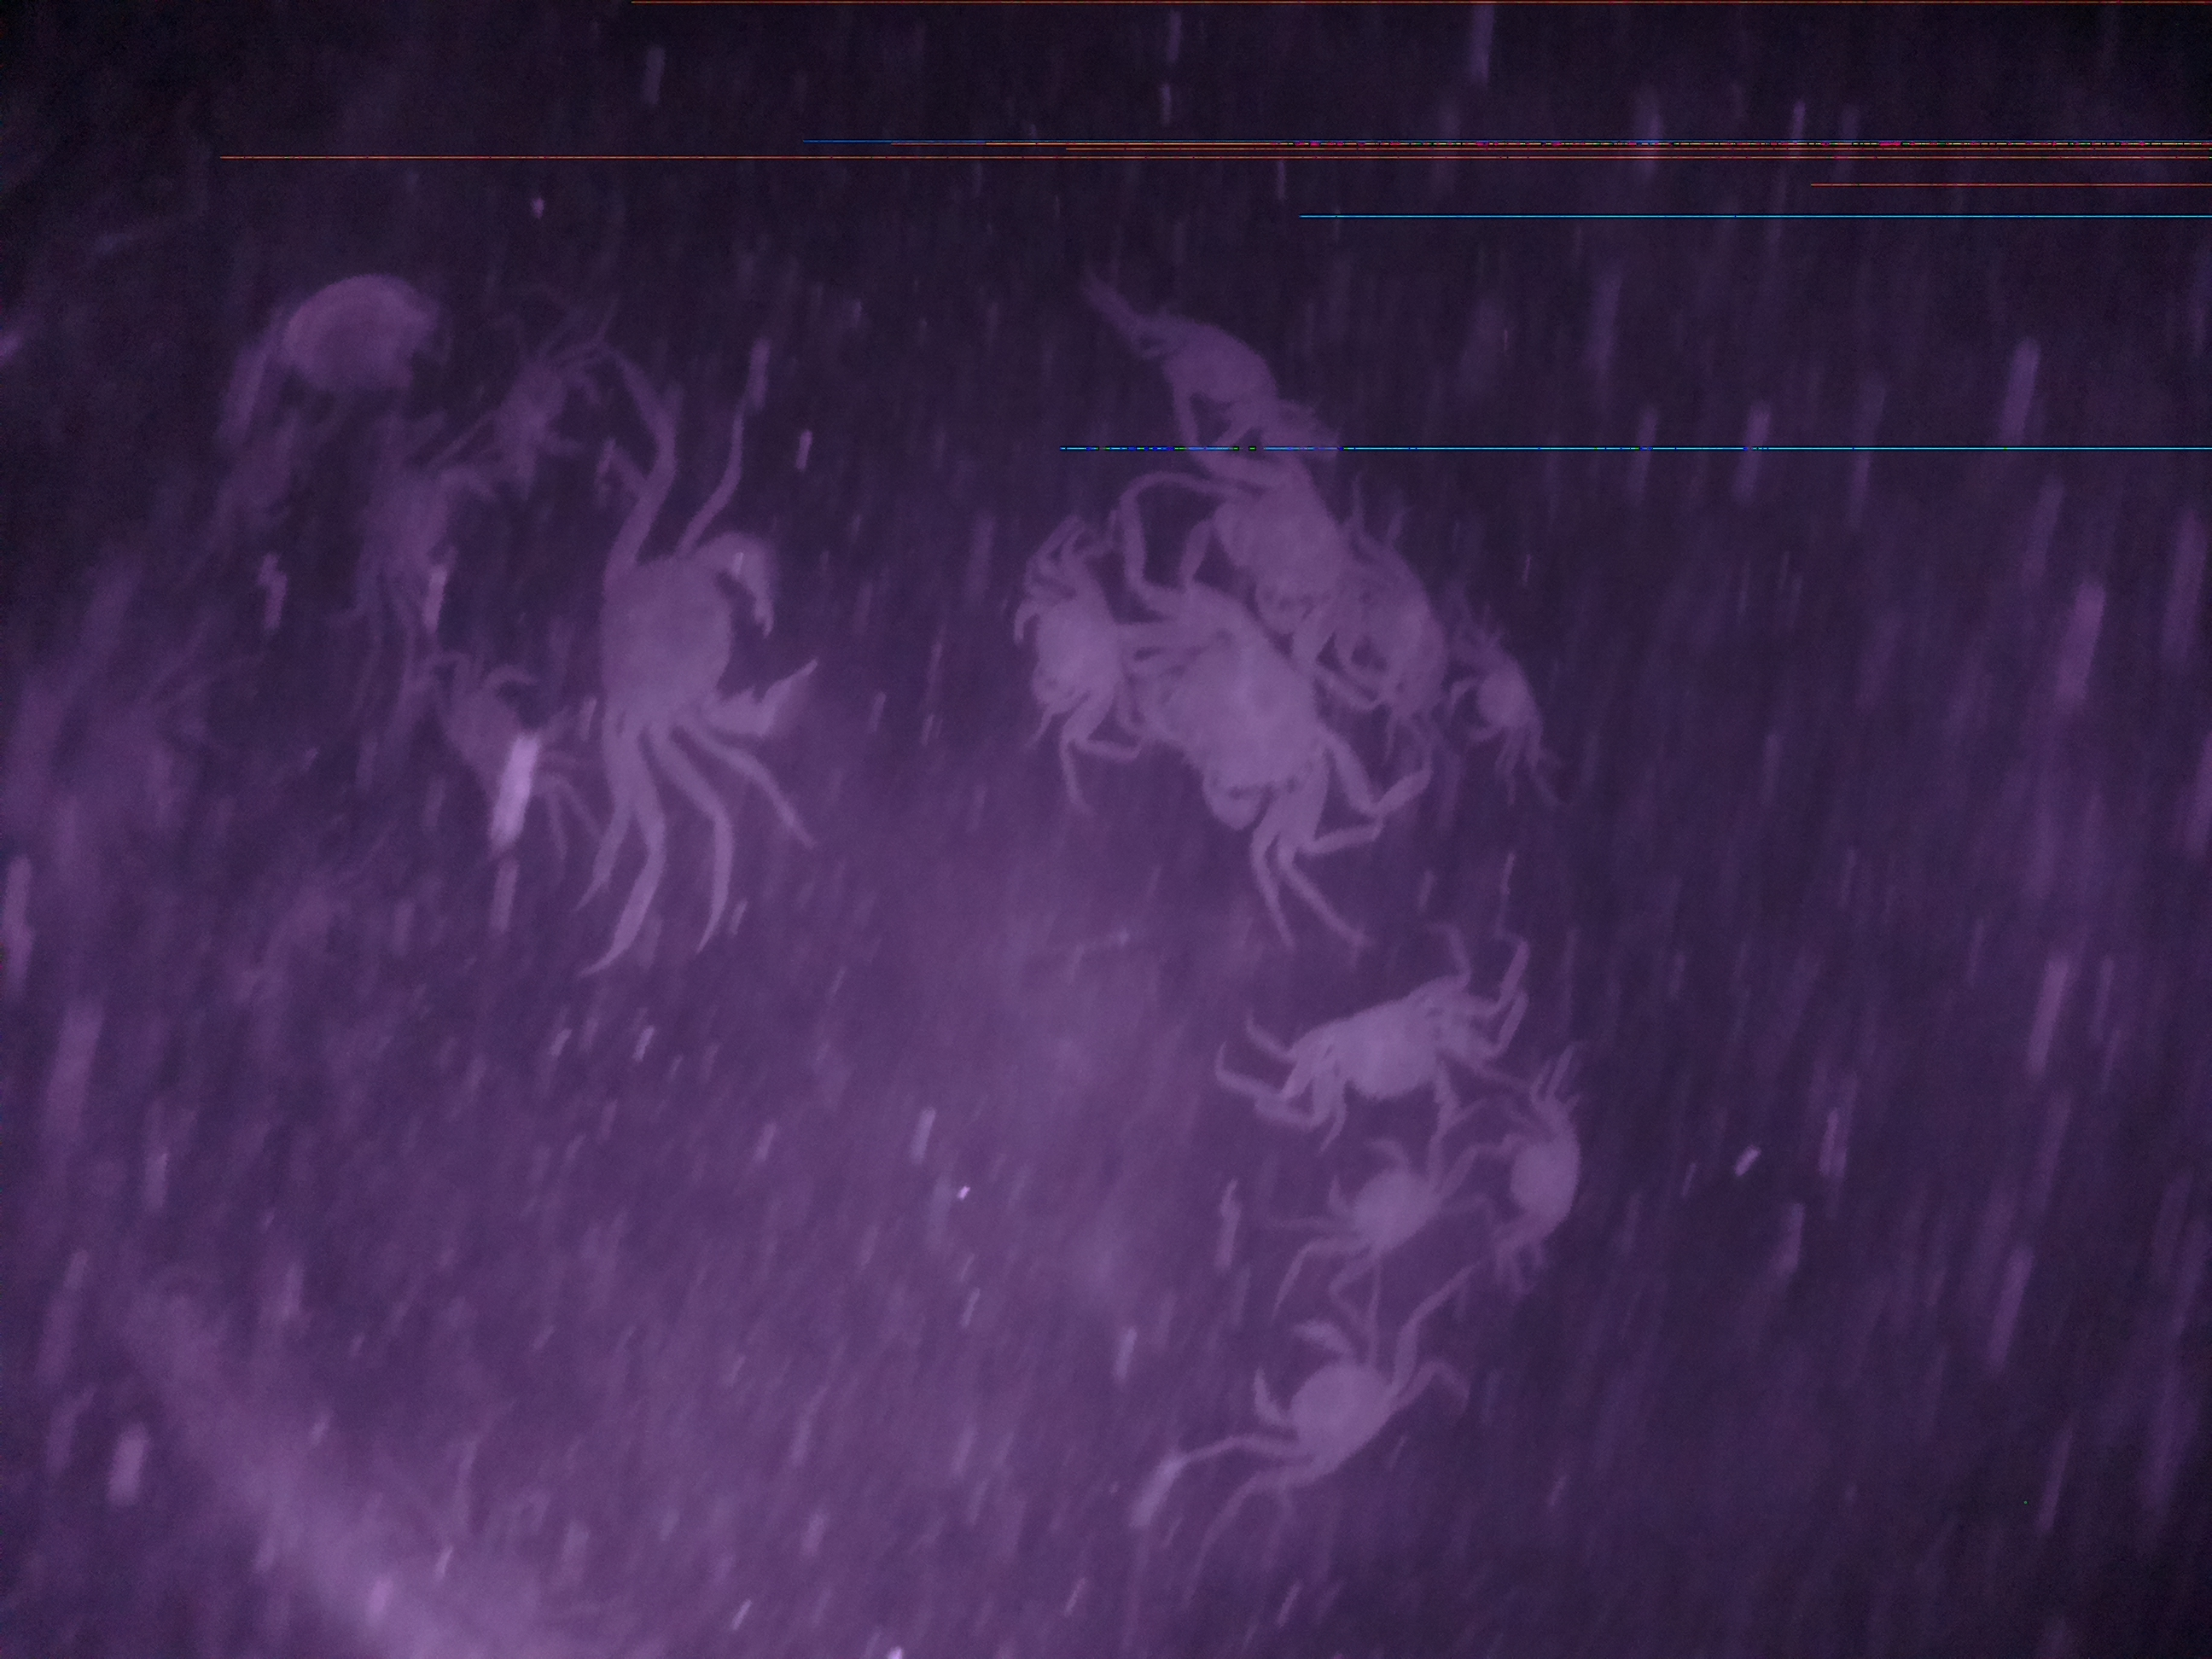Crab: (585, 505, 819, 760), (1129, 586, 1341, 850), (1244, 978, 1494, 1131), (1233, 1307, 1425, 1504), (1482, 1070, 1615, 1277), (1312, 1121, 1458, 1279), (1015, 547, 1125, 753), (1446, 627, 1548, 767)
